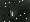person: (7, 9, 13, 18)
